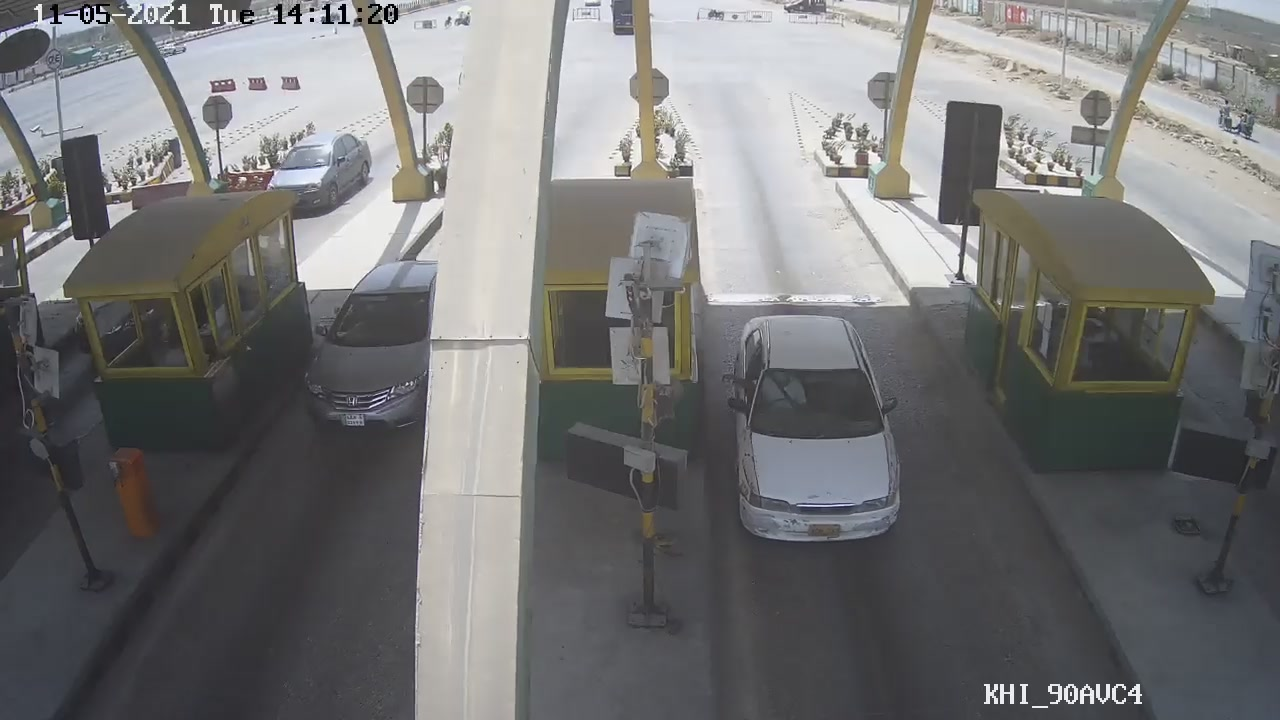F1: (717, 311, 905, 559)
